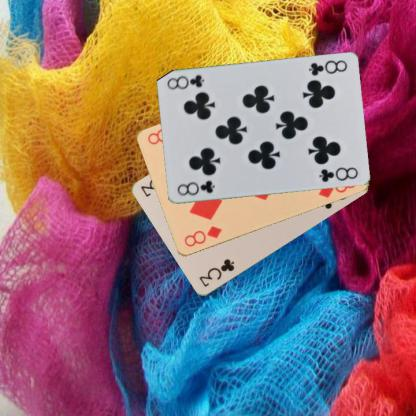3c: (196, 256, 236, 289)
8c: (306, 58, 348, 77), (175, 178, 216, 197)
8d: (181, 223, 223, 248)
